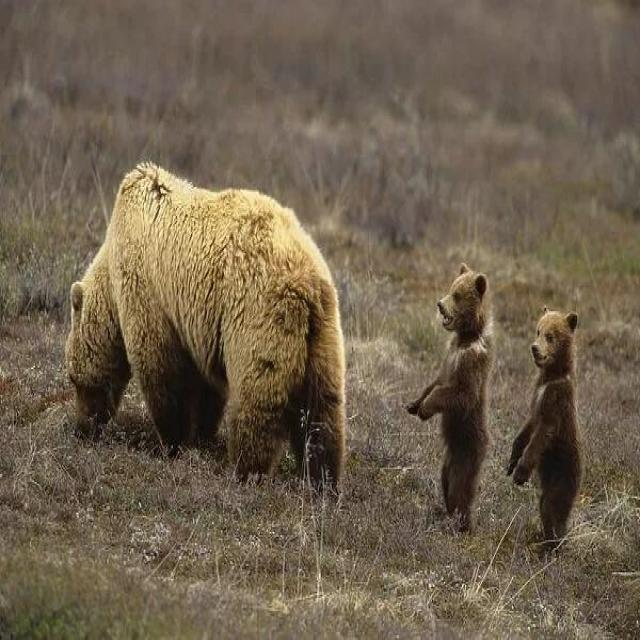Bear: (66, 163, 346, 495), (410, 269, 493, 535), (508, 311, 583, 550)
